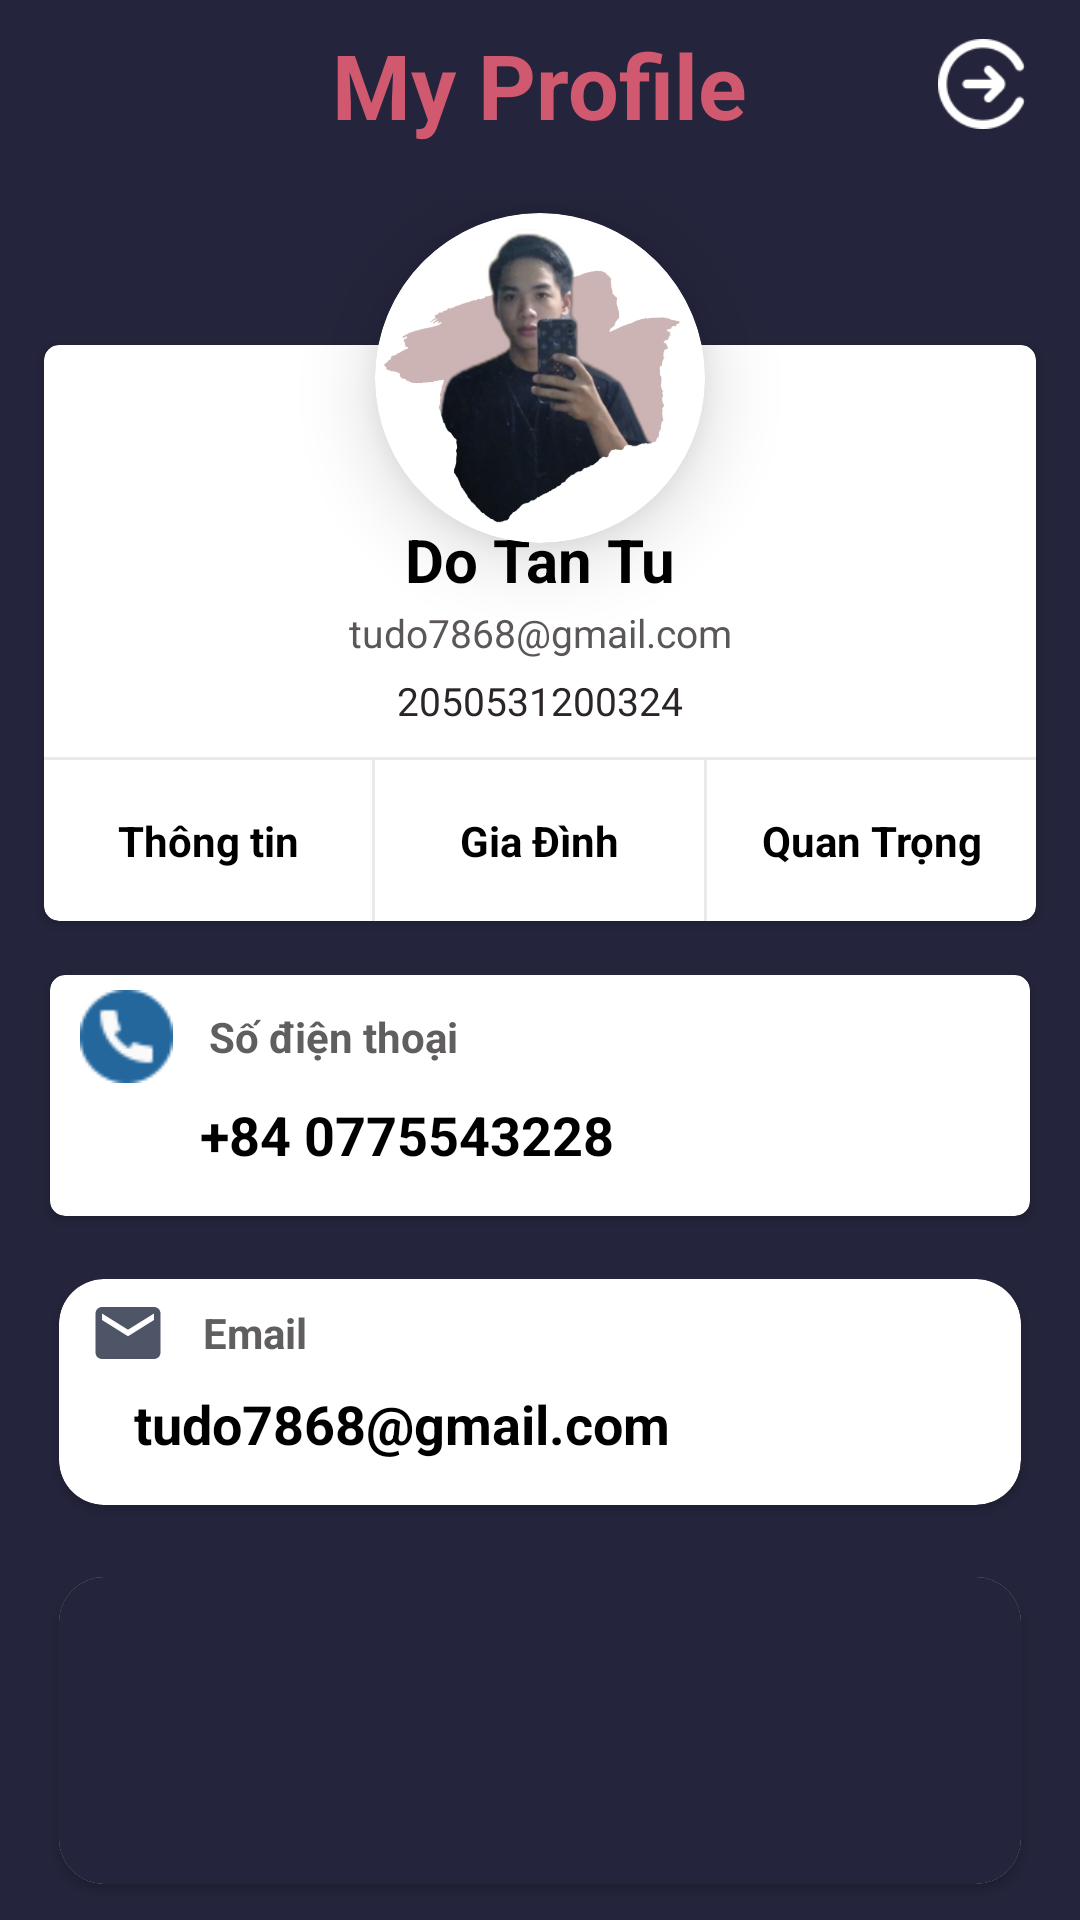

Named icons in this screenshot (1080 x 1920) and their bounding boxes, (x1, y1, x2, y2):
dang xuat: (938, 39, 1025, 129)
telephone: (80, 990, 173, 1083)
